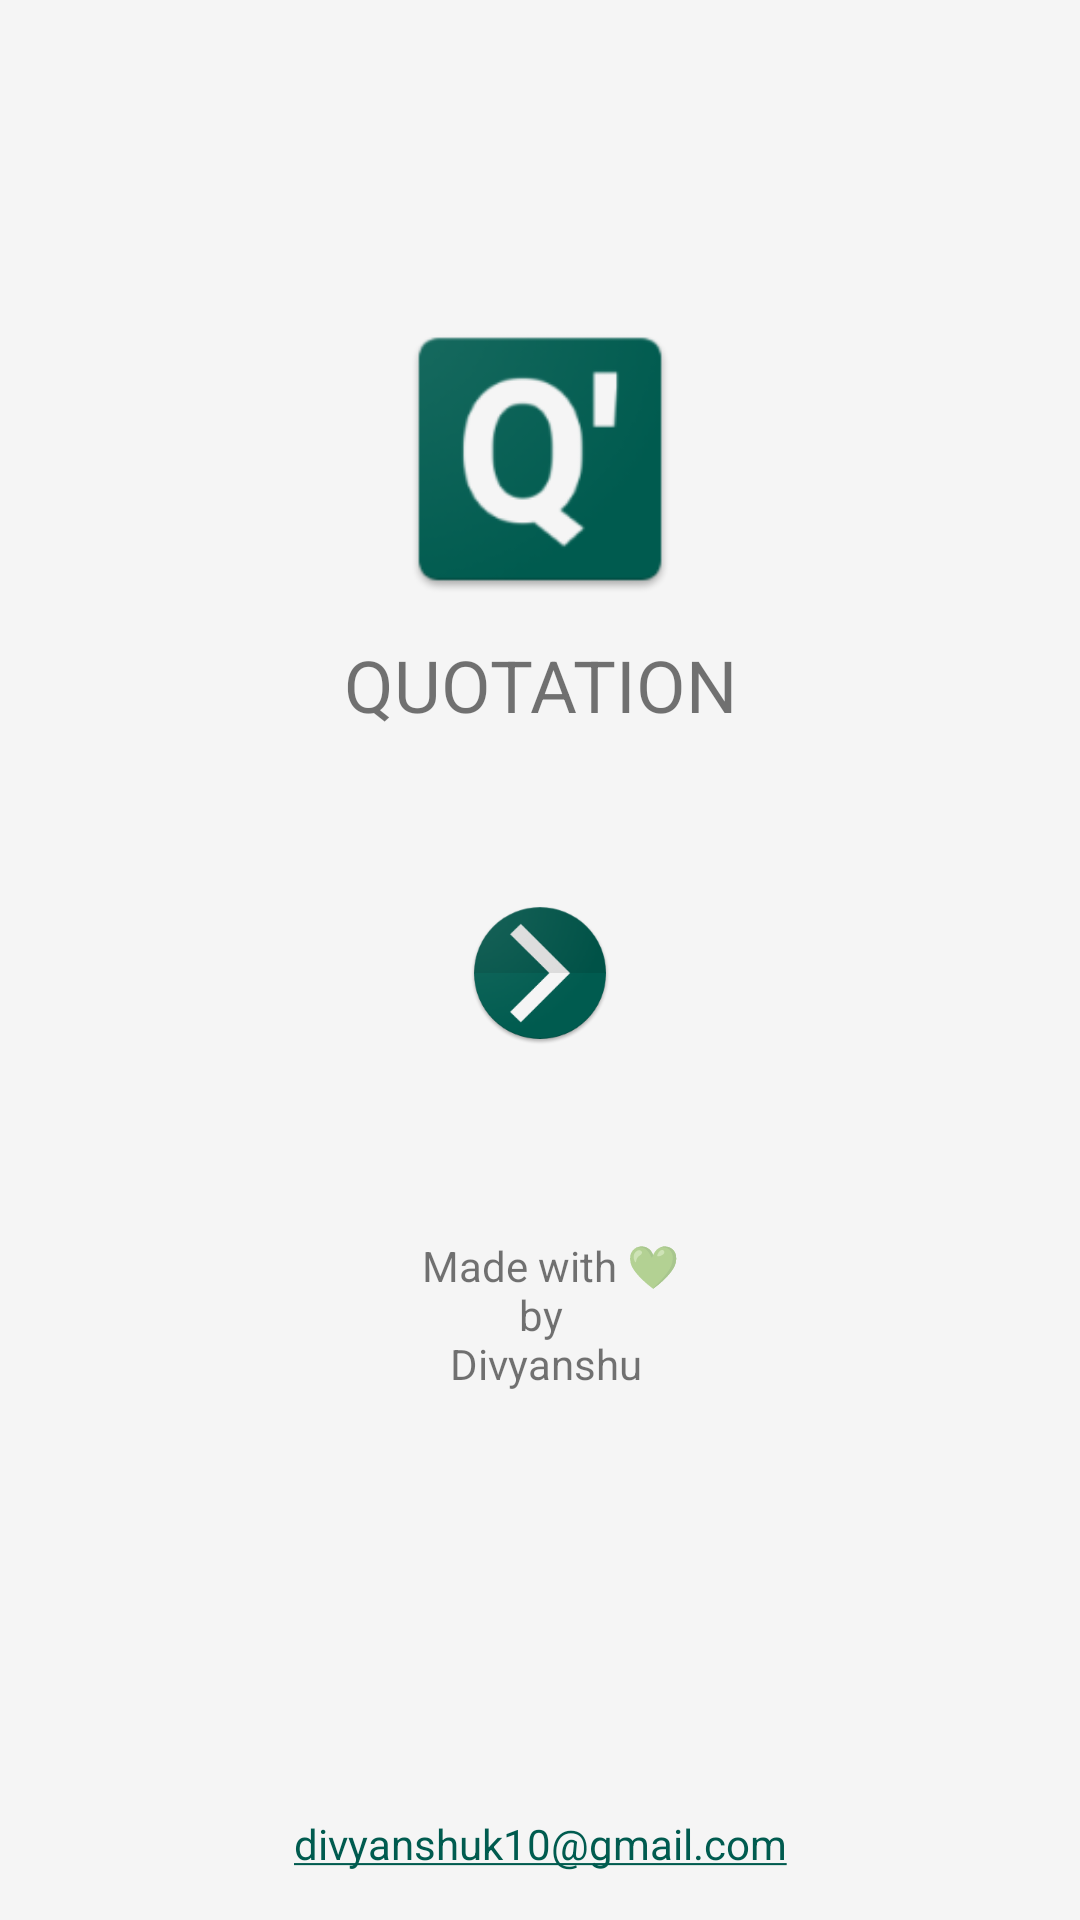

Icon click points for this 1080 x 1920 phone screenshot, format point (x, y):
next: point (540, 974)
